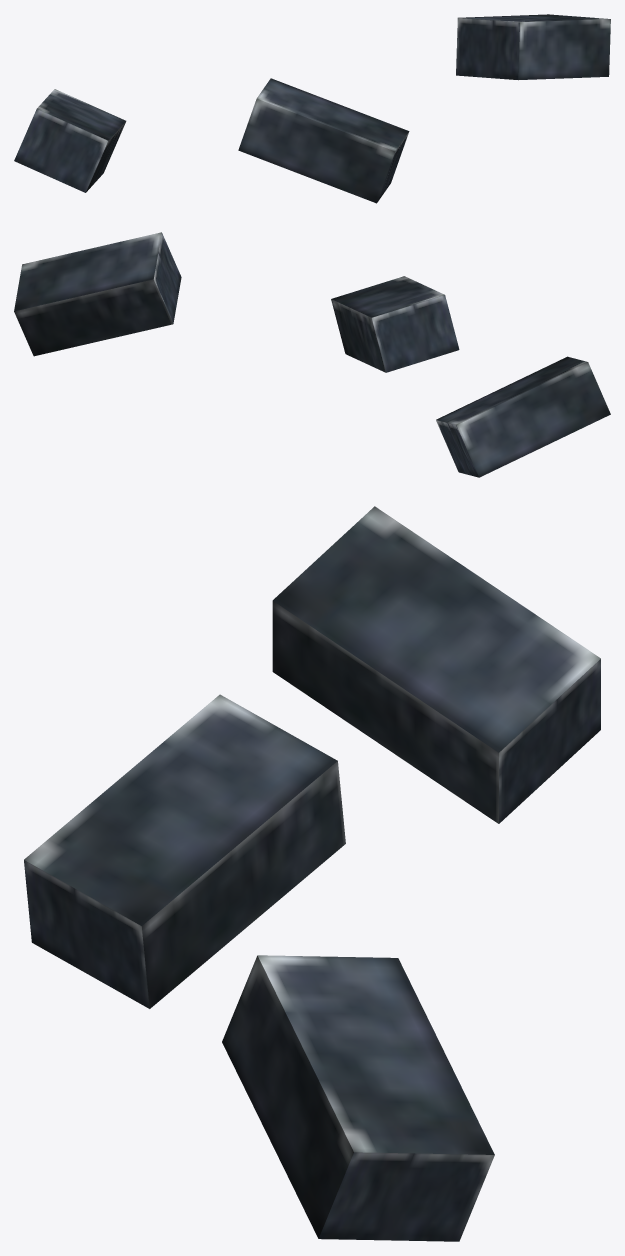
3 renders of one model, top to bottom at view 1: azimuth 30°, elevation 25°; view 2: azimuth 150°, elevation 25°; view 3: azimuth 270°, elevation 25°, orthographic. The views are drawn at different scales.
Parts seen in each view (by area): view 1: xs_wj22; view 2: xs_wj22; view 3: xs_wj22.
Boxes of the visible parts, x1,y1,x2,y2 form: xs_wj22: (14, 14, 610, 203); xs_wj22: (14, 232, 610, 477); xs_wj22: (24, 506, 600, 1241).
Bounding box in the file's own units: 1544 × 277 × 652.
Materials: 1 (1 with a texture image).
